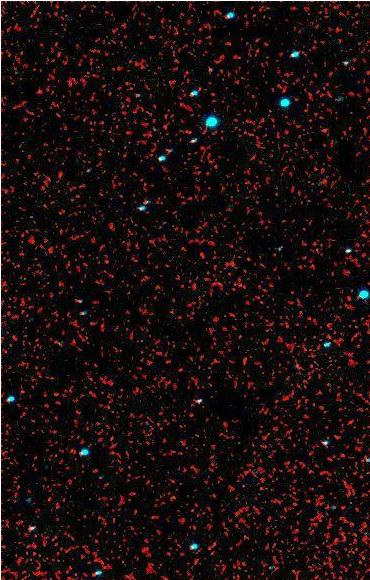star: (152, 111, 182, 141)
